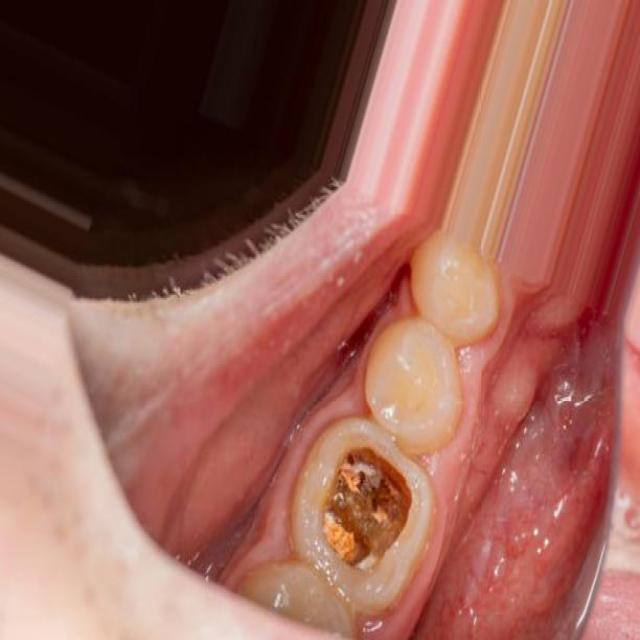caries: (299, 428, 422, 587)
